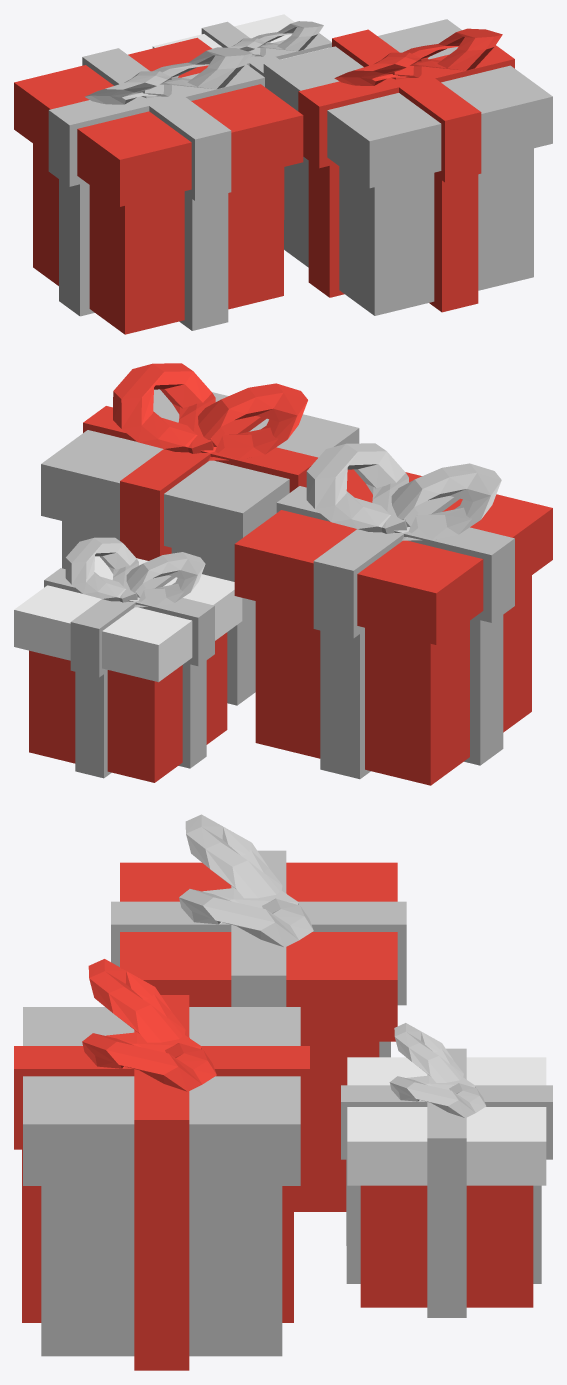
File: gift-group.obj
3 views of the same model, one above another, from view 1: azimuth 30°, elevation 25°; view 2: azimuth 150°, elevation 25°; view 3: azimuth 270°, elevation 25° (orthographic). The views are drawn at different scales.
Bounding box in the file's own units: 2.36 × 1.33 × 2.06.
